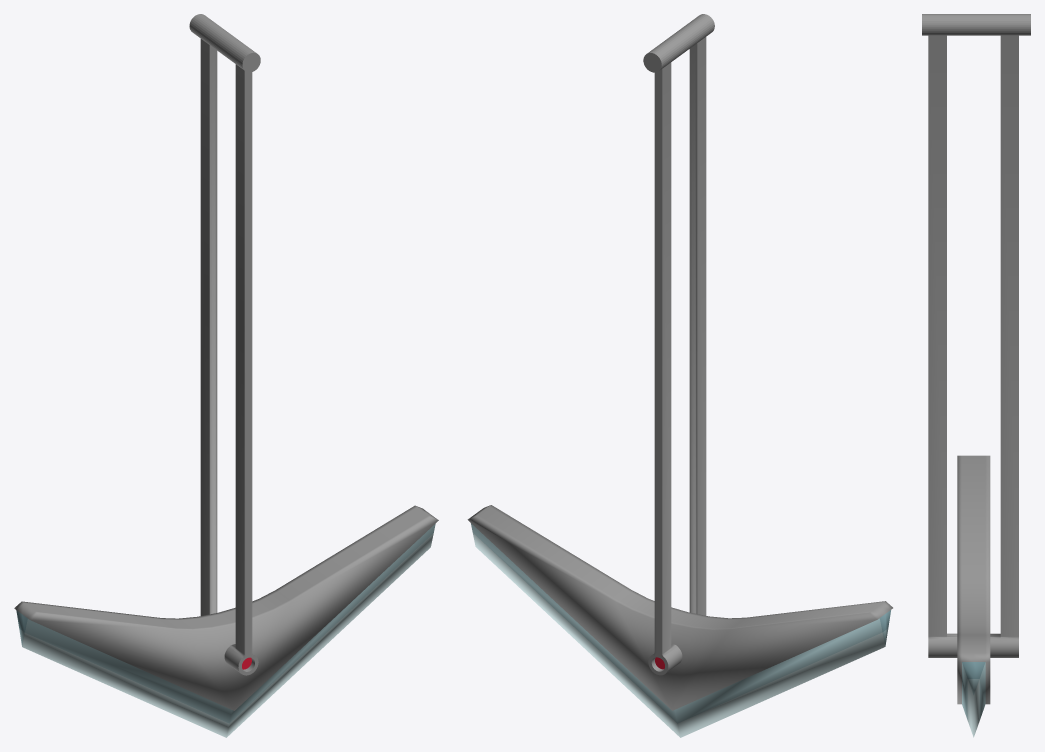
File: SwingingCutter.fbx
3 renders of one model, left to right at view 1: azimuth 30°, elevation 25°; view 2: azimuth 150°, elevation 25°; view 3: azimuth 270°, elevation 25°, orthographic. The views are drawn at different scales.
Visible parts, largest first — view 1: CuttingTrap; view 2: CuttingTrap; view 3: CuttingTrap.
Boxes of the visible parts, x1,y1,x2,y2 form: CuttingTrap: [14, 14, 438, 737]; CuttingTrap: [467, 14, 892, 737]; CuttingTrap: [922, 14, 1030, 737].
Size of the model in its own units: 72.2 by 119 by 16.21.
